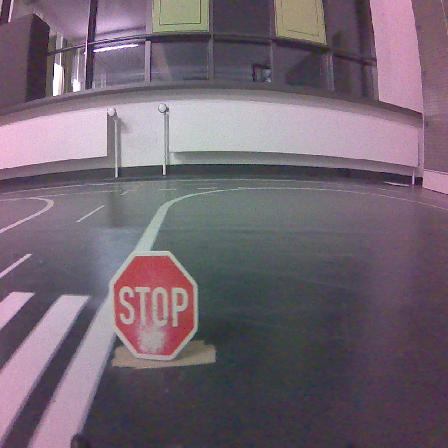STOP: (109, 251, 197, 360)
